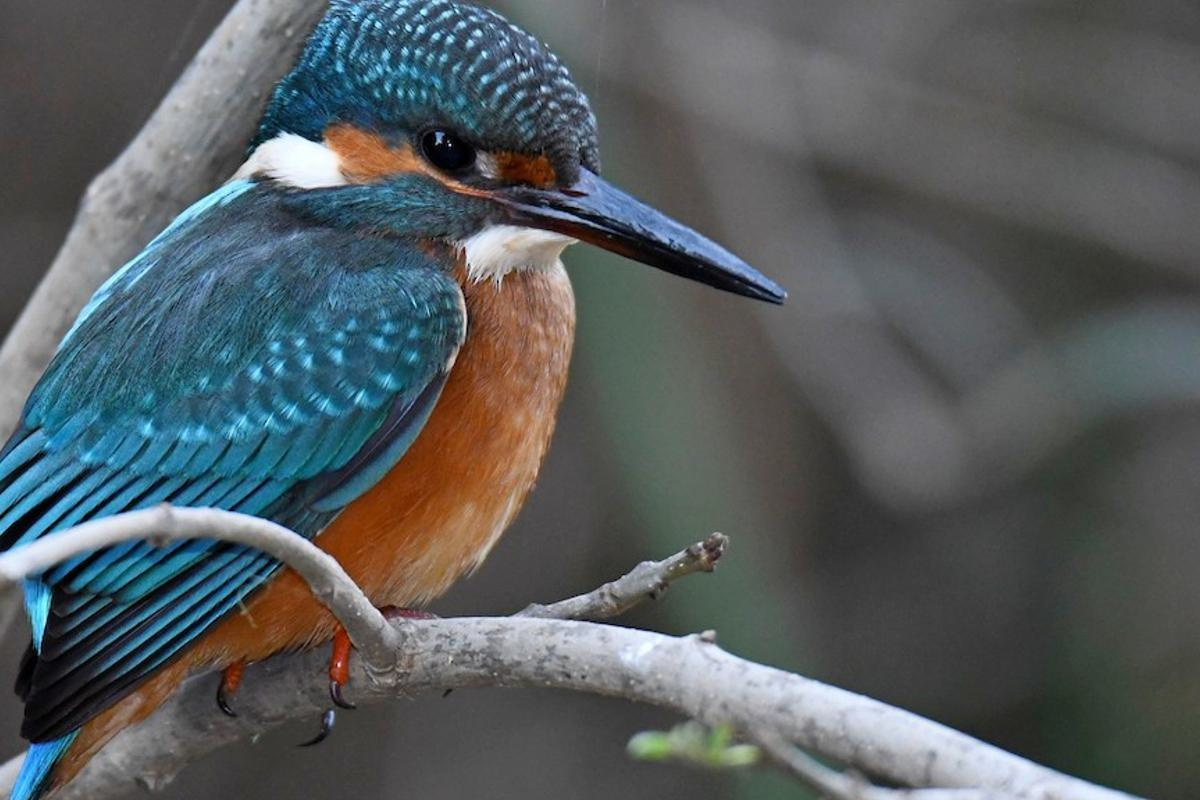kingfisher: (11, 11, 794, 705)
